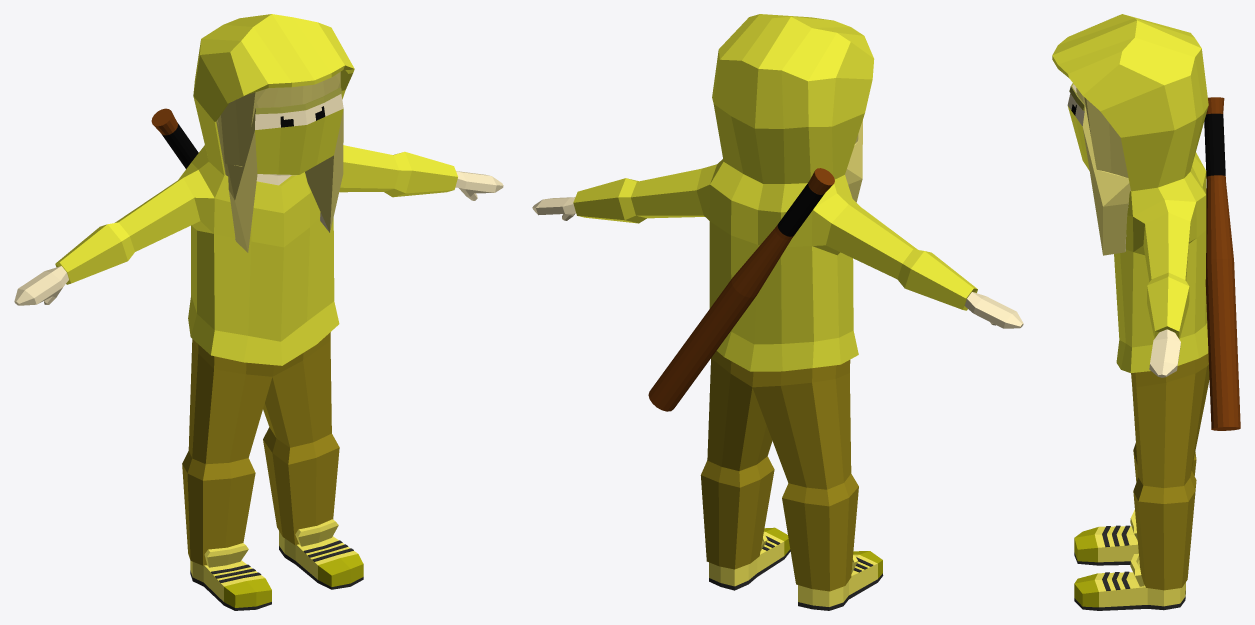
The model's file is Character_Girl_Yellow.fbx.
3 views of the same model, side by side, from view 1: azimuth 30°, elevation 25°; view 2: azimuth 150°, elevation 25°; view 3: azimuth 270°, elevation 25° (orthographic).
Parts seen in each view (by area): view 1: Cube.001, Cylinder.001; view 2: Cube.001, Cylinder.001; view 3: Cube.001, Cylinder.001.
Boxes of the visible parts, left/top/right/bottom form: Cube.001: left=14, top=14, right=503, bottom=610; Cylinder.001: left=151, top=108, right=198, bottom=168; Cube.001: left=532, top=14, right=1023, bottom=610; Cylinder.001: left=648, top=168, right=834, bottom=411; Cube.001: left=1052, top=14, right=1209, bottom=610; Cylinder.001: left=1204, top=97, right=1240, bottom=430.
Bounding box in the file's own units: 153 × 169 × 51.67.
